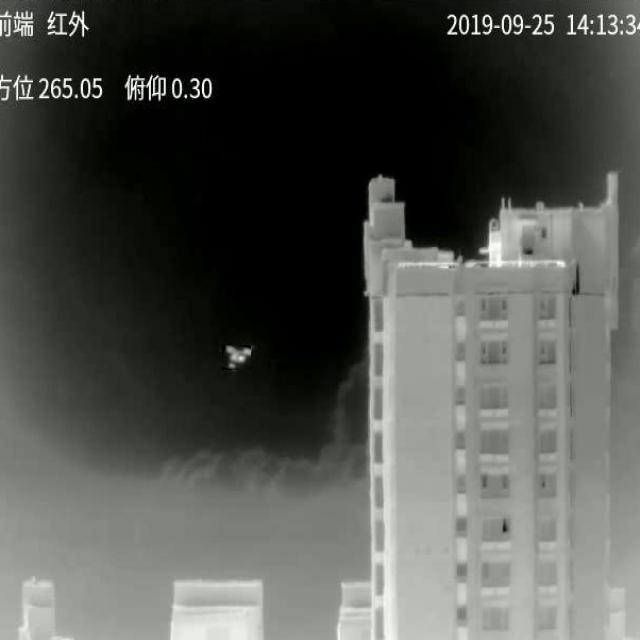drone: (226, 345, 251, 369)
